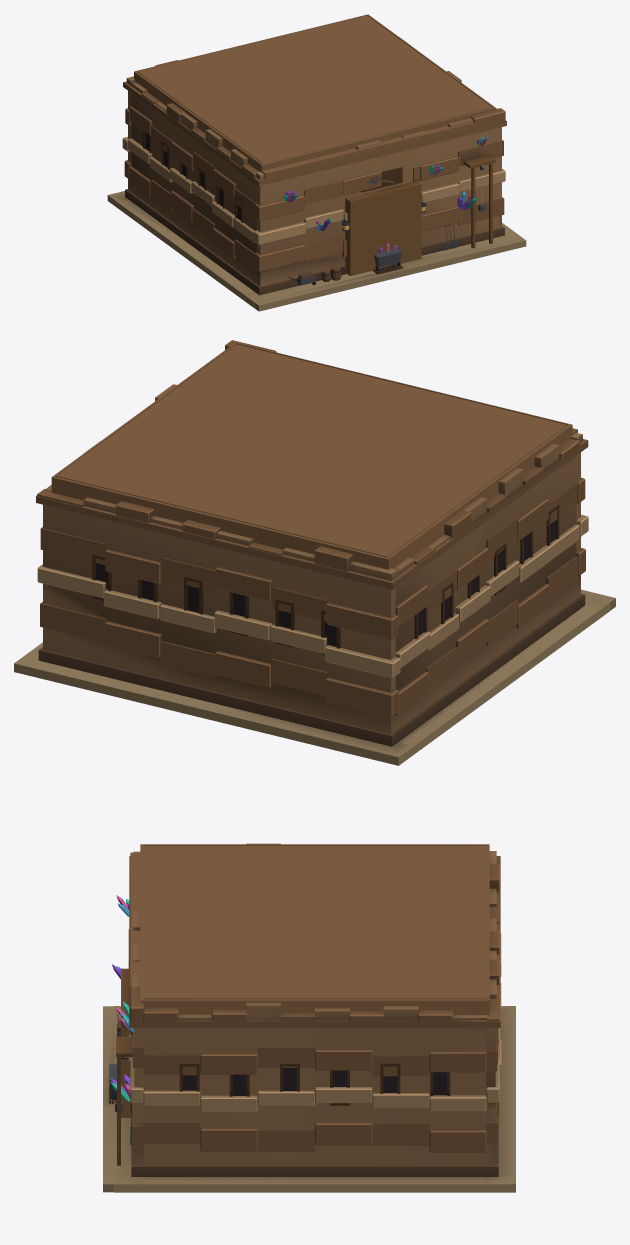
The model's file is CrystalScorpionFloor.fbx.
3 renders of one model, top to bottom at view 1: azimuth 30°, elevation 25°; view 2: azimuth 150°, elevation 25°; view 3: azimuth 270°, elevation 25°, orthographic. The views are drawn at different scales.
Parts seen in each view (by area): view 1: CR_S_All, CR_F_Rings, CR_F_Quiet, CR_F_Smooth, CR_F_Glass, CR_F_Props; view 2: CR_S_All, CR_F_Rings, CR_F_Quiet, CR_F_Smooth, CR_F_Glass; view 3: CR_S_All, CR_F_Rings, CR_F_Quiet, CR_F_Smooth, CR_F_Glass.
Boxes of the visible parts, x1,y1,x2,y2 form: CR_S_All: (107,14,521,308); CR_F_Rings: (122,15,505,295); CR_F_Quiet: (108,60,525,305); CR_F_Smooth: (123,65,526,311); CR_F_Glass: (145,132,488,253); CR_F_Props: (297,248,402,285); CR_S_All: (14,342,610,765); CR_F_Rings: (38,343,588,746); CR_F_Quiet: (36,340,615,756); CR_F_Smooth: (36,344,615,716); CR_F_Glass: (96,520,555,646); CR_S_All: (114,844,515,1192); CR_F_Rings: (122,843,500,1176); CR_F_Quiet: (103,856,515,1184); CR_F_Smooth: (103,864,501,1192); CR_F_Glass: (110,895,447,1101).
Bounding box in the file's own units: 60 × 20 × 60.
